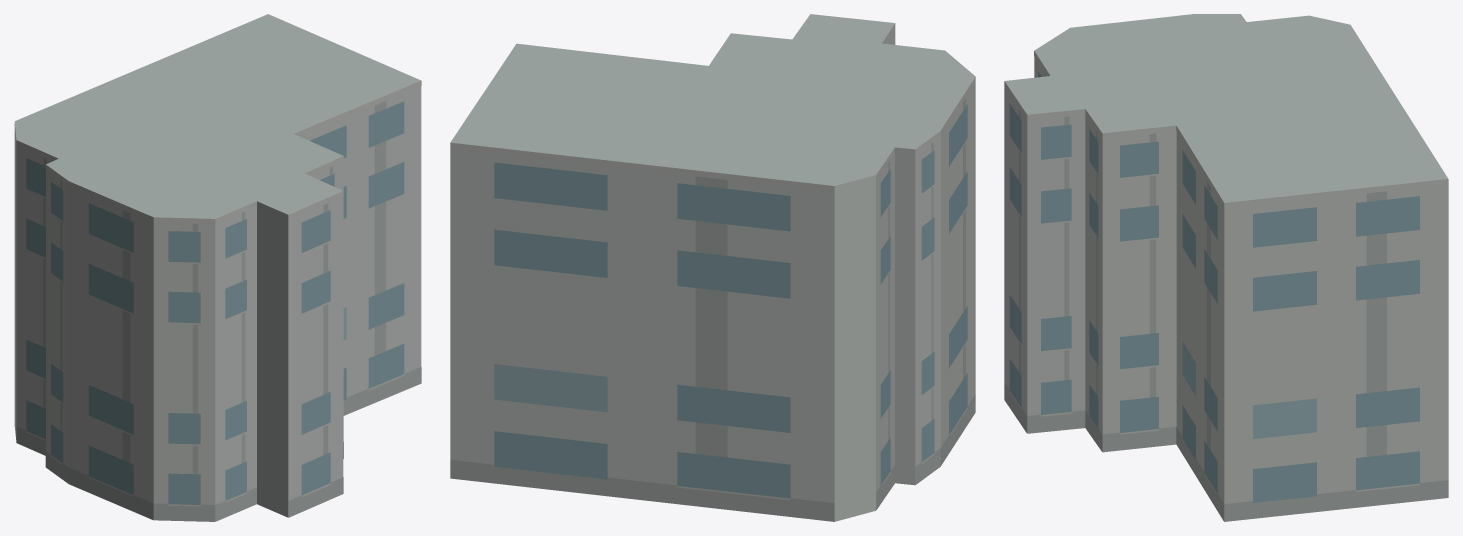
The model's file is survey-upis-32806487.glb.
3 renders of one model, left to right at view 1: azimuth 30°, elevation 25°; view 2: azimuth 150°, elevation 25°; view 3: azimuth 270°, elevation 25°, orthographic. The views are drawn at different scales.
Visible parts, largest first — view 1: survey-upis-32806487.tmp; view 2: survey-upis-32806487.tmp; view 3: survey-upis-32806487.tmp.
Boxes of the visible parts, x1,y1,x2,y2 form: survey-upis-32806487.tmp: [14, 14, 421, 521]; survey-upis-32806487.tmp: [450, 14, 975, 521]; survey-upis-32806487.tmp: [1004, 14, 1448, 521].
Size of the model in its own units: 17.06 by 13.42 by 16.94.
